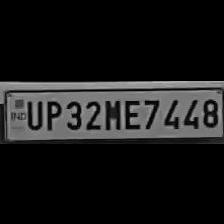2: (82, 95, 102, 129)
3: (62, 96, 82, 130)
4: (160, 94, 180, 128), (180, 94, 198, 128)
7: (140, 95, 160, 129)
8: (198, 94, 218, 128)
E: (122, 96, 140, 130)
M: (102, 96, 120, 130)
P: (42, 96, 62, 130)
U: (22, 96, 42, 130)
